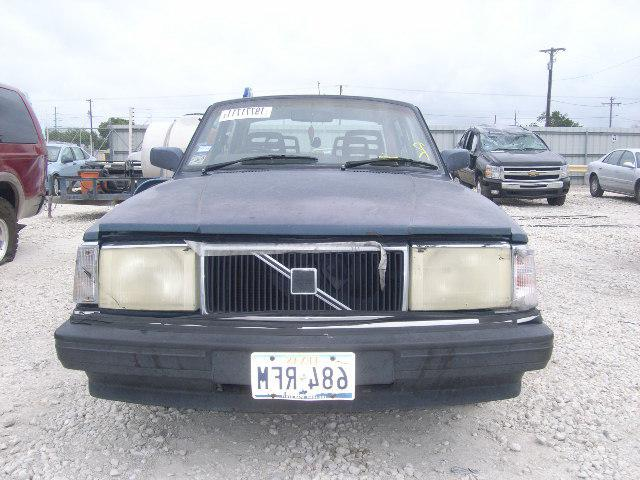Car: (47, 56, 572, 452), (462, 111, 574, 216)
